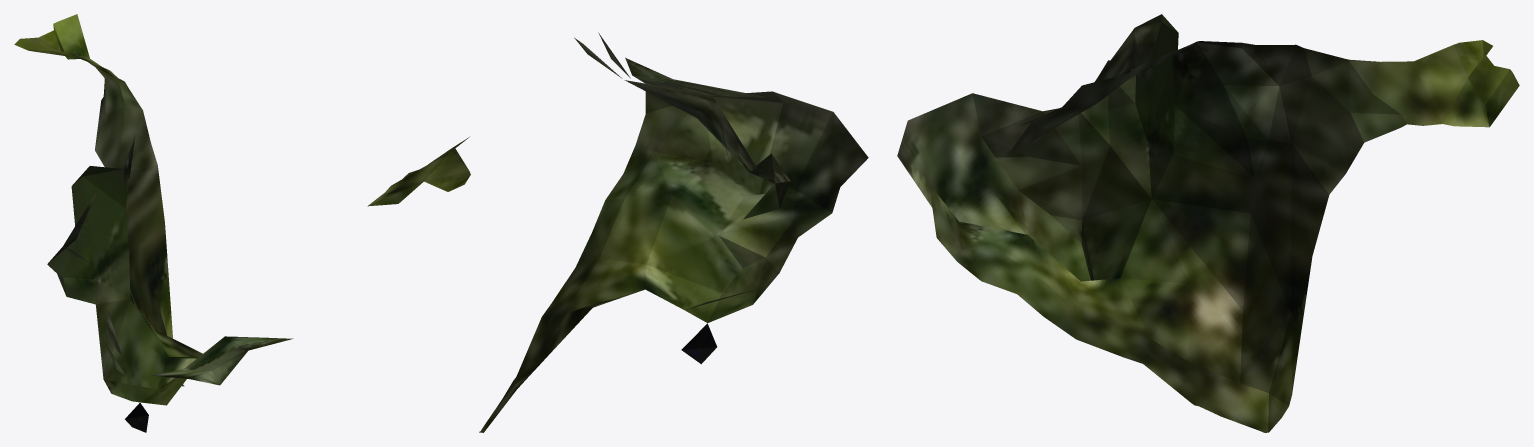
3 renders of one model, left to right at view 1: azimuth 30°, elevation 25°; view 2: azimuth 150°, elevation 25°; view 3: azimuth 270°, elevation 25°, orthographic. The views are drawn at different scales.
Bounding box in the file's own units: 0.4275 × 0.5927 × 0.9625.
Materials: 1 (1 with a texture image).
